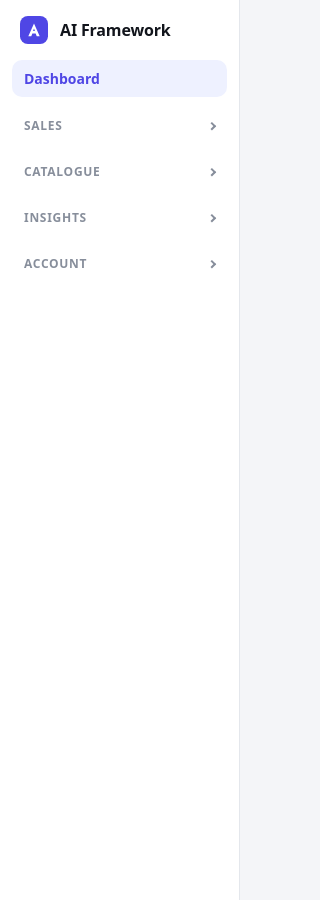
Sidebar › folds and unfolds a group on click
What coordinates should you click on to do the following:
click the button "Catalogue"
I would click on:
 (120, 172)
Its box is [12,155,227,189].
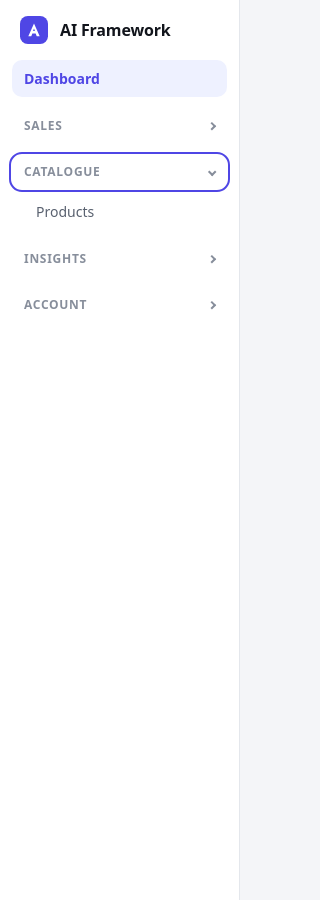
Check: the link "Products" is shown, box [36,202,94,221]
What coordinates should you click on to do the following:
click the button "Catalogue"
I would click on:
 (120, 172)
Its box is [12,155,227,189].
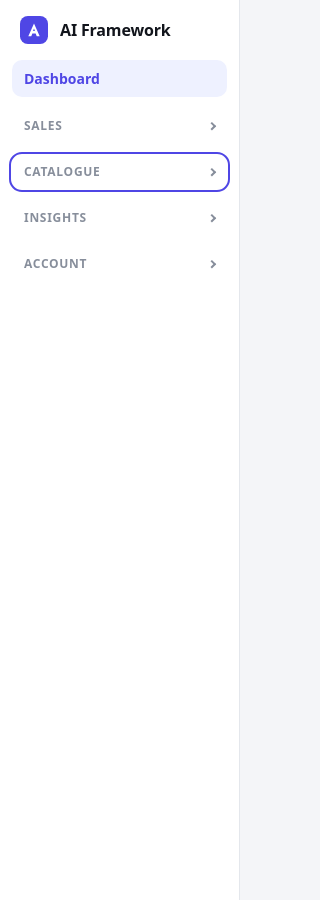
Check: the link "Products" is gone
